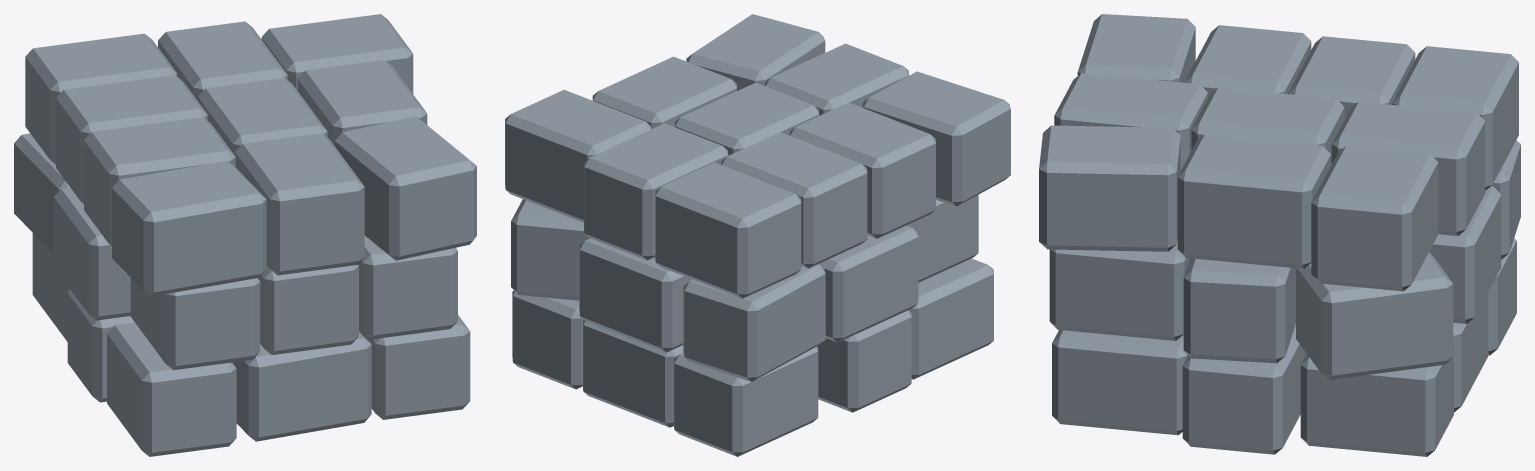
Rendered from ice_scandi_construction_bricks_01.fbx.
3 views of the same model, side by side, from view 1: azimuth 30°, elevation 25°; view 2: azimuth 150°, elevation 25°; view 3: azimuth 270°, elevation 25° (orthographic). The views are drawn at different scales.
Parts seen in each view (by area): view 1: scandi_construction_bricks_01; view 2: scandi_construction_bricks_01; view 3: scandi_construction_bricks_01.
Boxes of the visible parts, x1=… form: scandi_construction_bricks_01: x1=14, y1=14, x2=476, y2=456; scandi_construction_bricks_01: x1=505, y1=14, x2=1010, y2=456; scandi_construction_bricks_01: x1=1039, y1=14, x2=1520, y2=456.
Bounding box in the file's own units: 2.82 × 1.75 × 2.91.
1 material, 1 textured.
